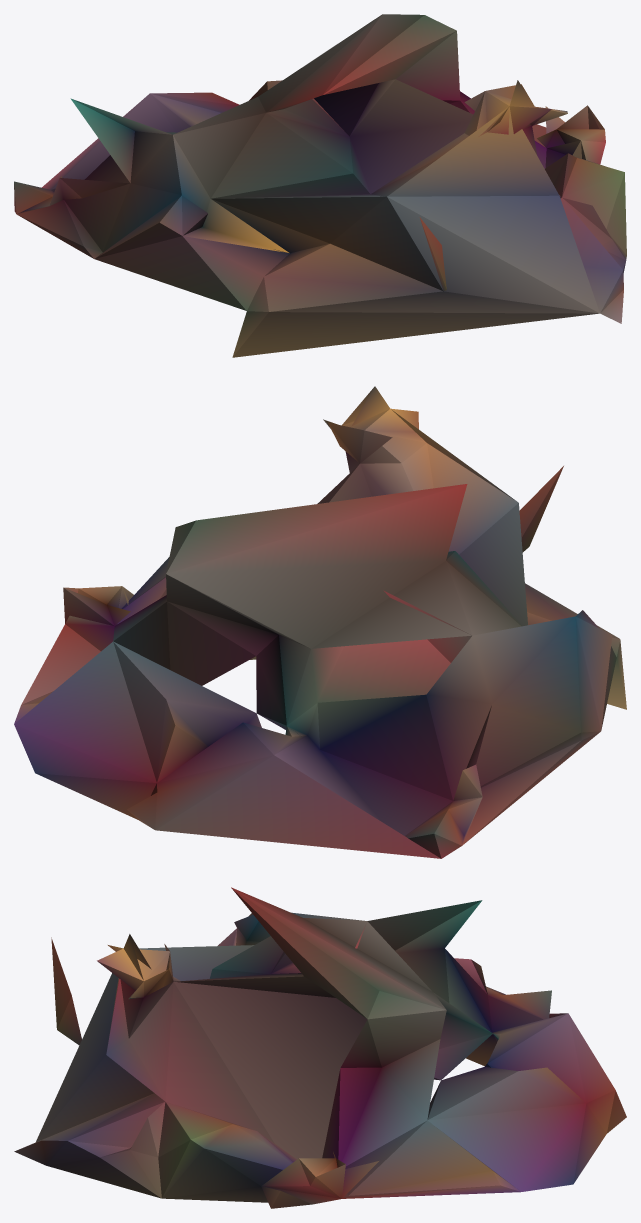
The model's file is chroma_lo.glb.
3 views of the same model, one above another, from view 1: azimuth 30°, elevation 25°; view 2: azimuth 150°, elevation 25°; view 3: azimuth 270°, elevation 25° (orthographic). The views are drawn at different scales.
Parts seen in each view (by area): view 1: chroma; view 2: chroma; view 3: chroma.
Boxes of the visible parts, left/top/right/bottom form: chroma: left=14, top=14, right=626, bottom=357; chroma: left=14, top=386, right=626, bottom=858; chroma: left=14, top=887, right=626, bottom=1208.
Size of the model in its own units: 1.64 by 0.7138 by 1.83.
